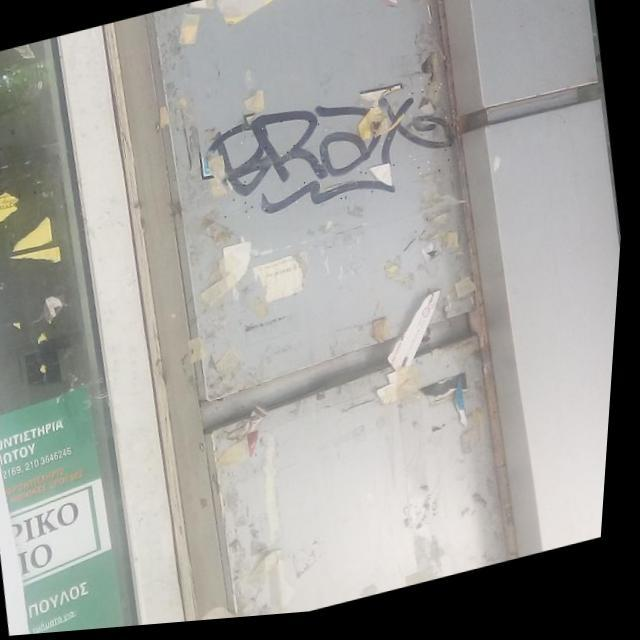-: (207, 74, 468, 236)
